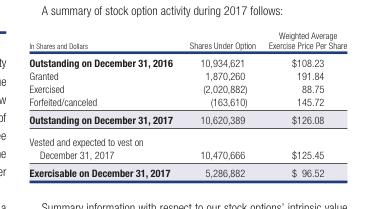table: (28, 29, 346, 178)
table column: (28, 29, 180, 178), (261, 29, 346, 178), (180, 29, 261, 178)
table column header: (28, 29, 346, 52)
table row: (28, 130, 346, 162), (28, 29, 346, 52), (28, 109, 346, 130), (28, 52, 346, 68), (28, 162, 346, 178), (28, 94, 346, 109), (28, 68, 346, 81), (28, 81, 346, 94)
